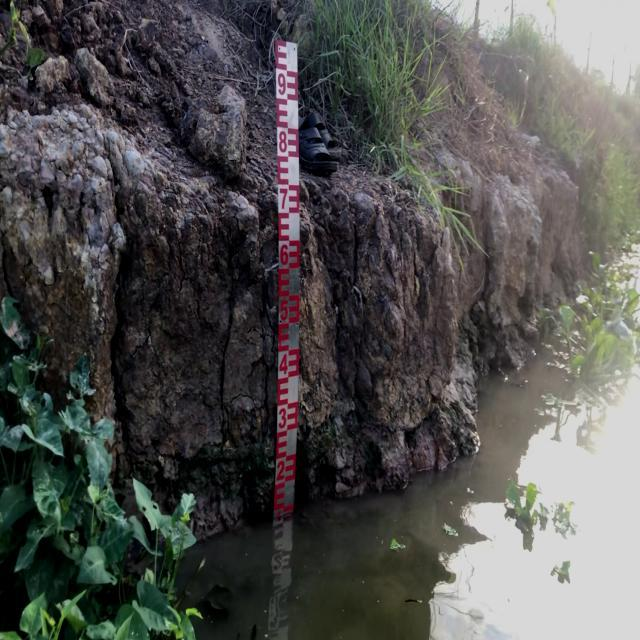ruler: (263, 31, 306, 522)
value: (276, 126, 290, 158), (274, 69, 288, 100), (276, 185, 290, 216), (277, 239, 290, 269), (276, 404, 289, 432), (278, 347, 290, 377), (278, 297, 290, 325), (274, 457, 286, 483)
